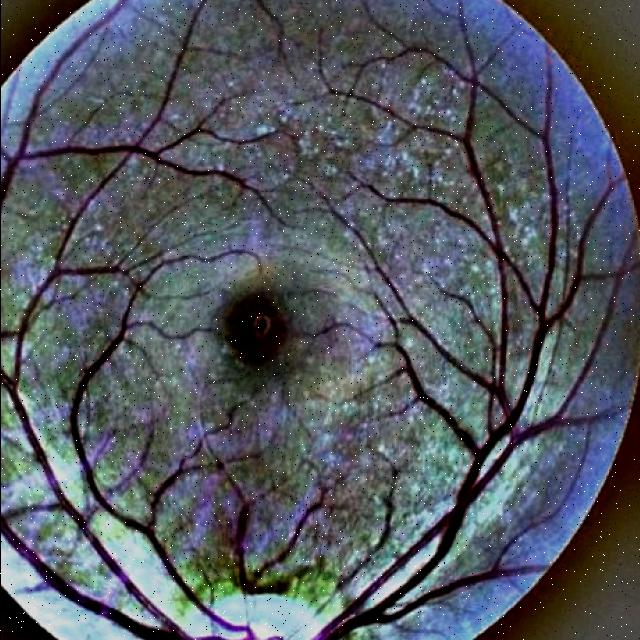Macula: (228, 299, 285, 362)
Nerves: (309, 299, 570, 640), (70, 312, 285, 640), (0, 362, 237, 640), (0, 513, 134, 623), (225, 473, 327, 595), (335, 458, 399, 593)
Optic Disk: (198, 594, 324, 640)
